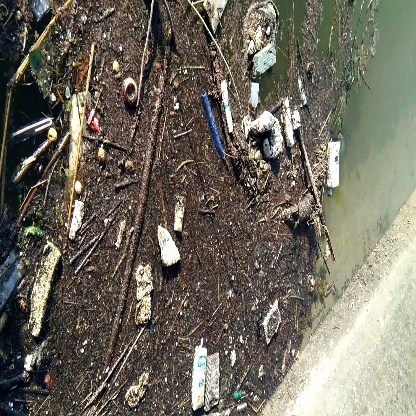milk-box: (188, 339, 211, 414), (326, 138, 343, 192)
